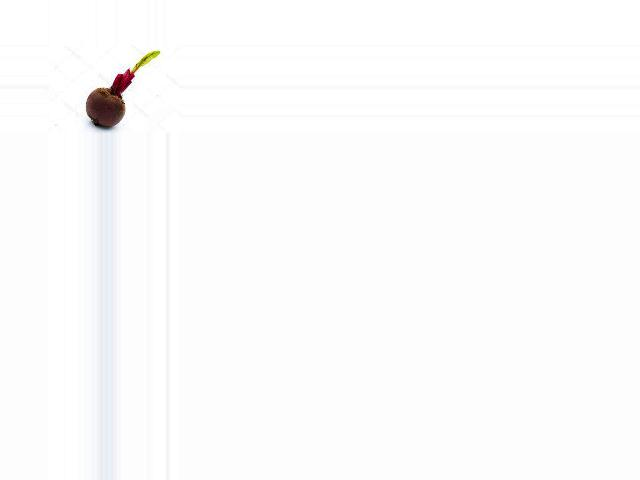beet: (85, 51, 158, 126)
